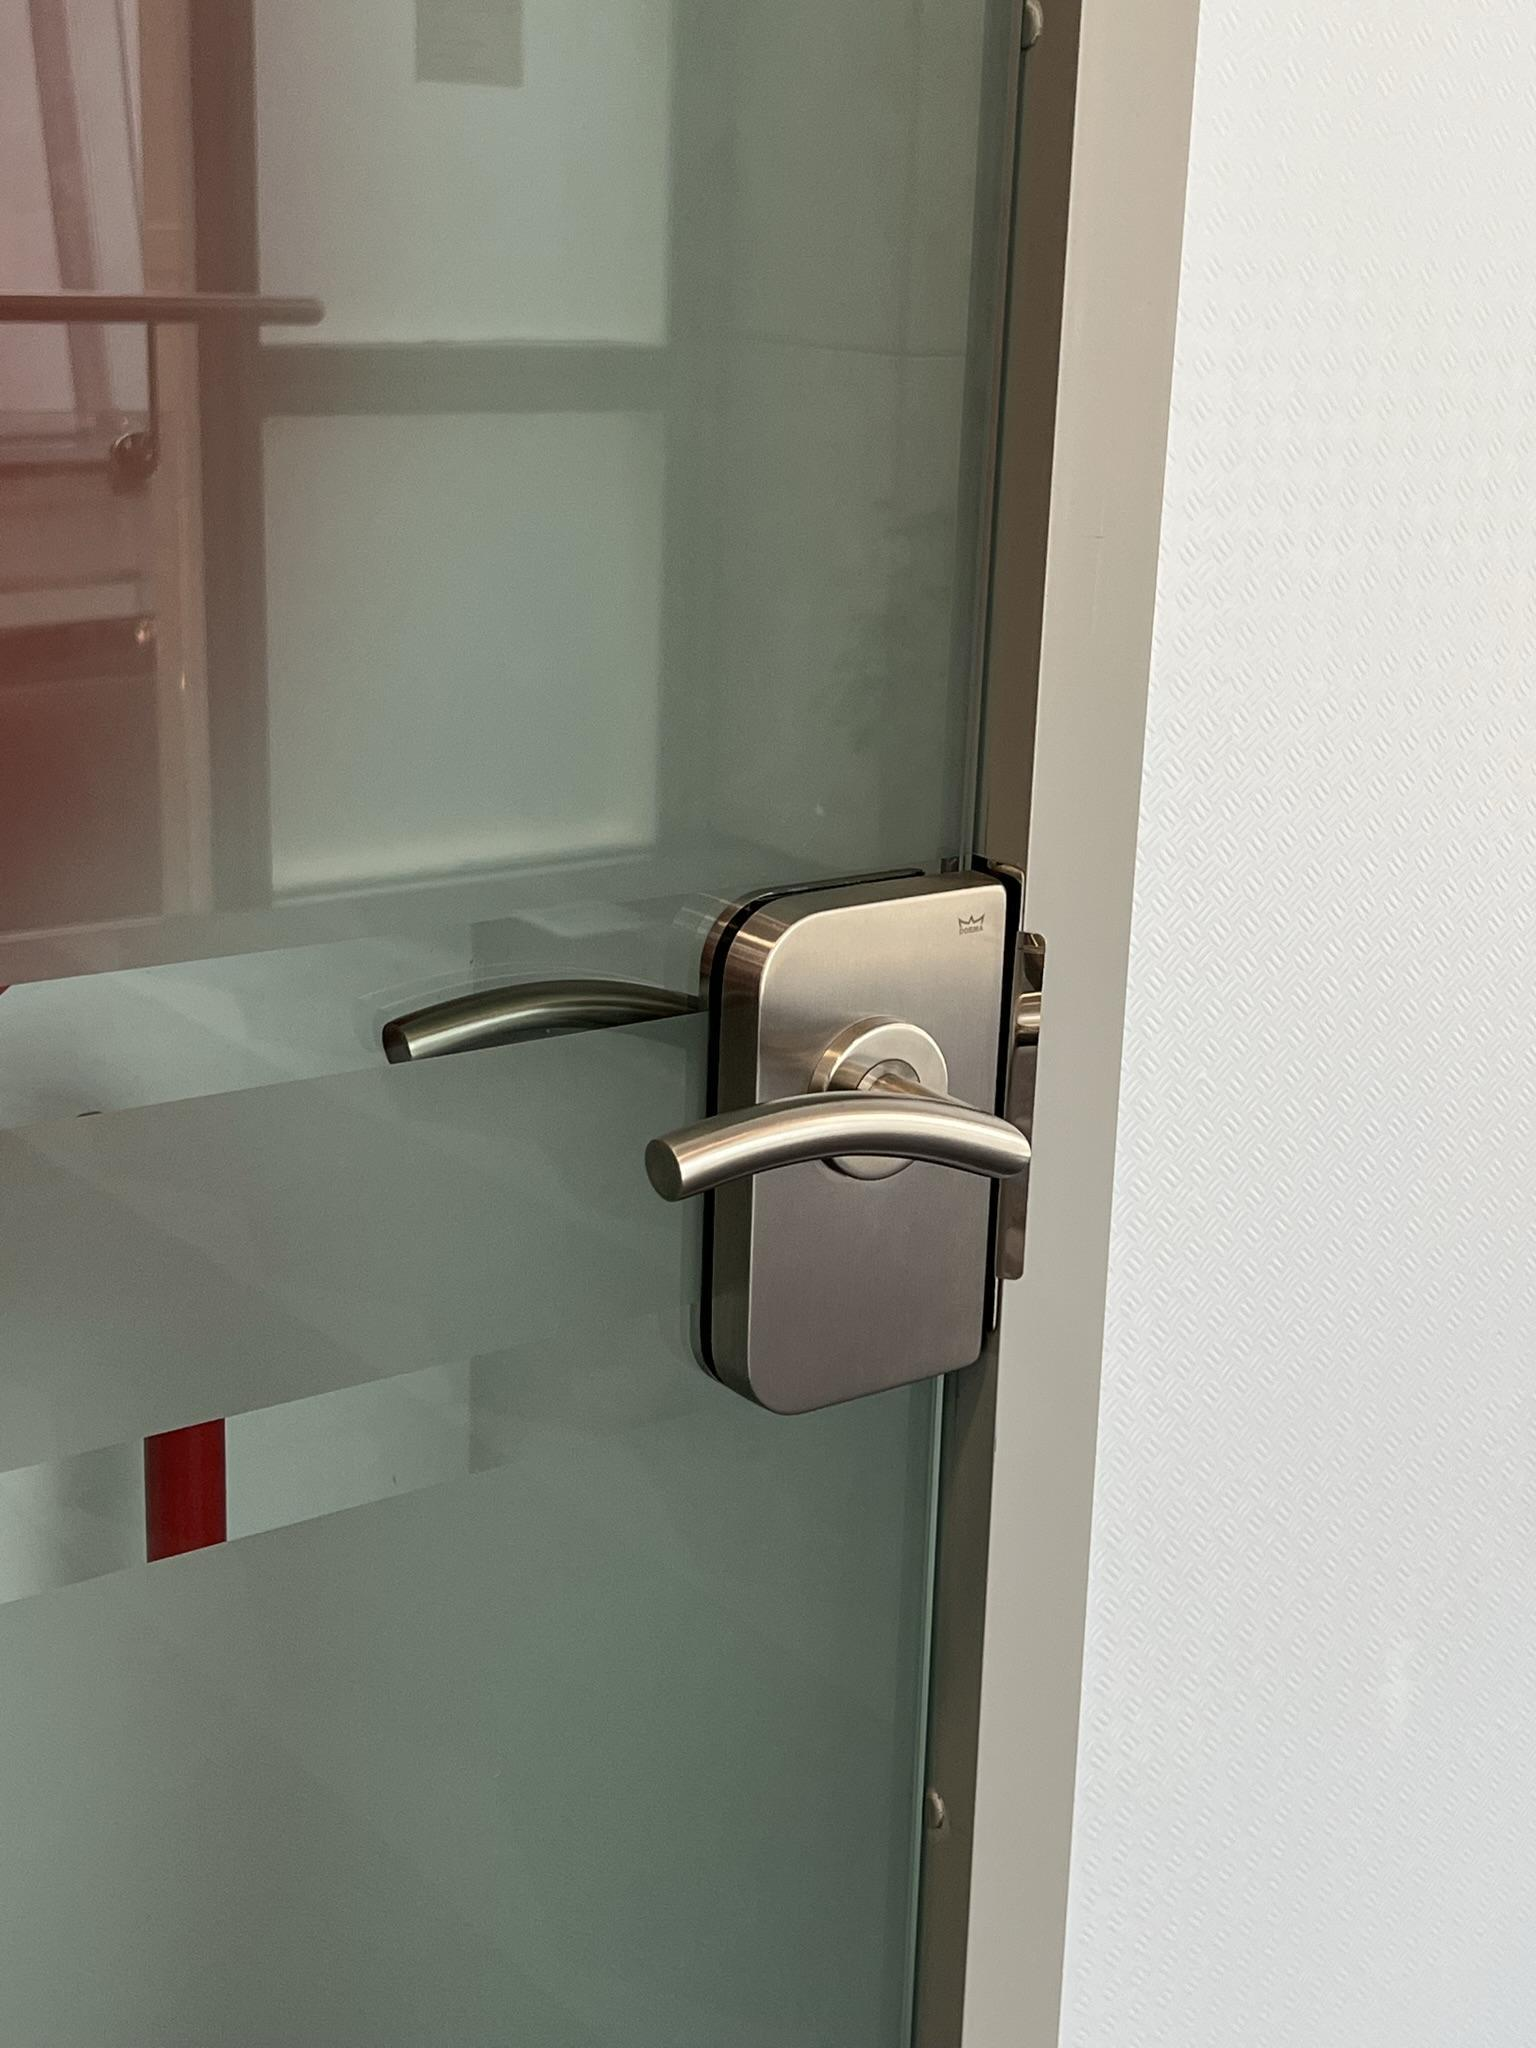handle: (644, 871, 1037, 1409)
